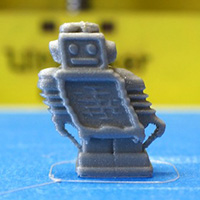3dplayershift: (47, 88, 79, 120), (114, 88, 142, 123)
